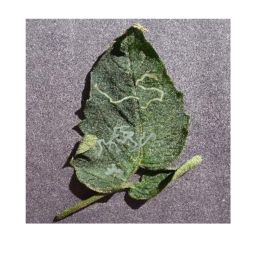liriomyza: (95, 125, 156, 158), (95, 82, 141, 106), (136, 72, 165, 109), (106, 163, 127, 181)
